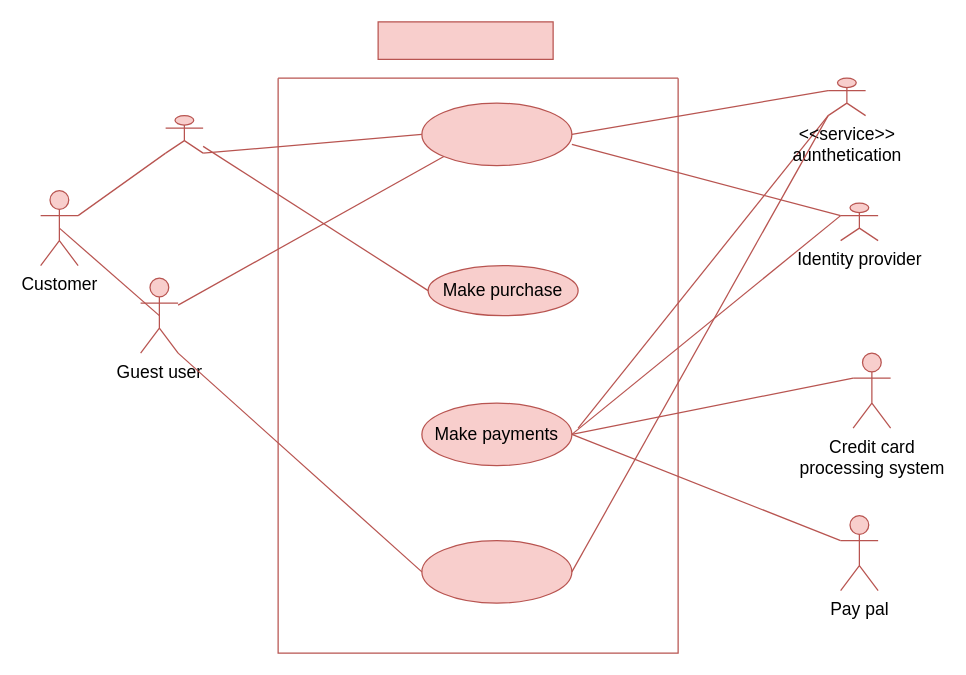
Some shapes in this 966 by 675 pixel diagram are drawn without their labels. The centre of each missing label's shape, as x and y in pixels:
E-shop Use case: point 465,40
Register into the system: point 496,571
Registered user: point 183,133
View item: point 496,134
